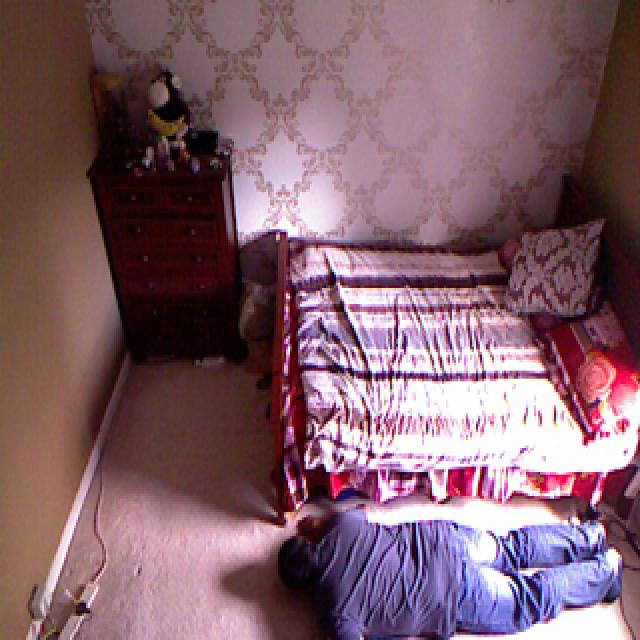lying: (243, 495, 640, 640)
